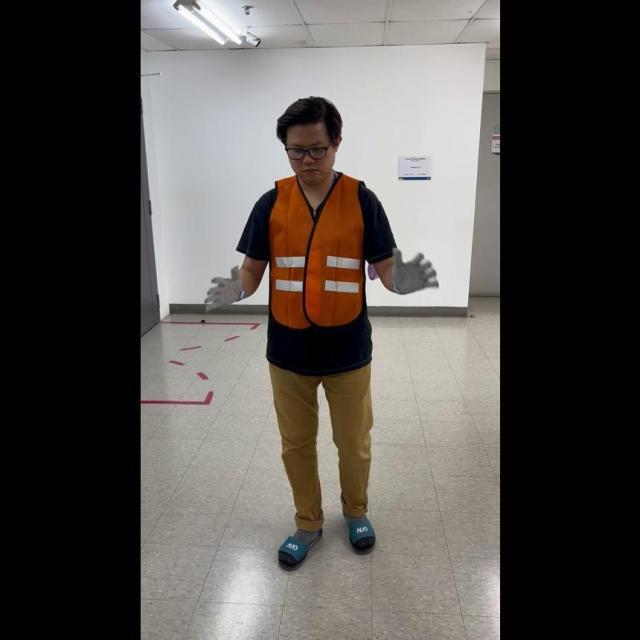gloved_hand: (386, 244, 438, 297), (201, 263, 246, 315)
